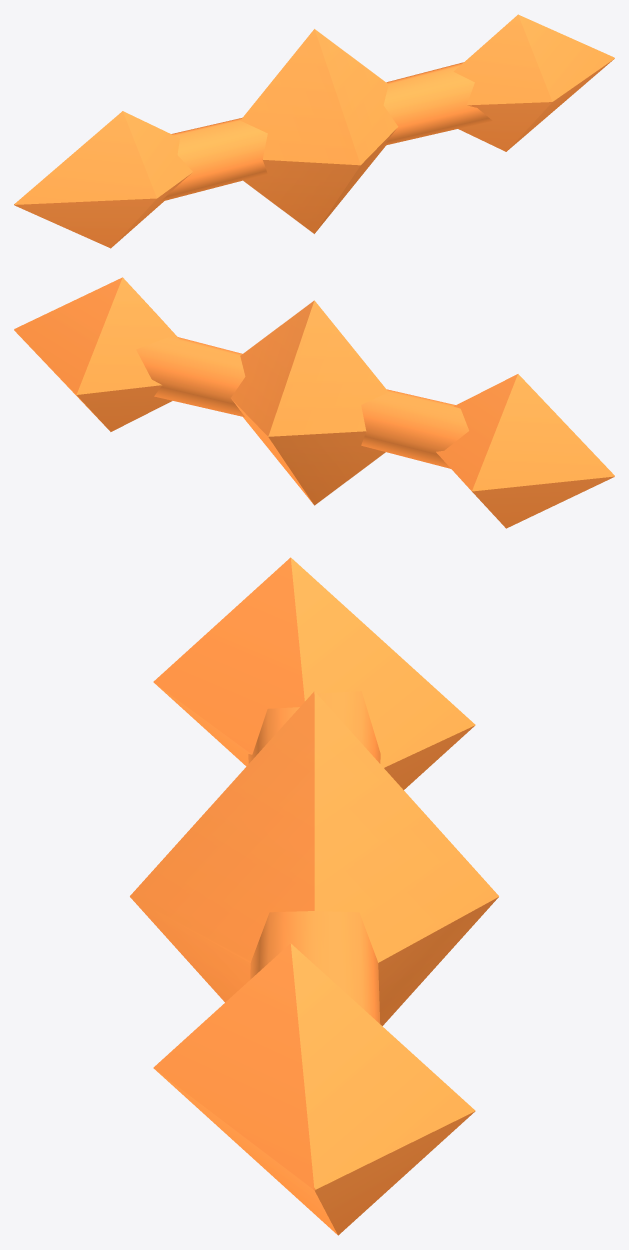
The model's file is bronze_guard_068.glb.
The picture shows the model from 3 angles, top to bottom: view 1: azimuth 30°, elevation 25°; view 2: azimuth 150°, elevation 25°; view 3: azimuth 270°, elevation 25°; orthographic projection. The views are drawn at different scales.
Parts seen in each view (by area): view 1: bronze_guard_068; view 2: bronze_guard_068; view 3: bronze_guard_068.
Boxes of the visible parts, x1,y1,x2,y2 form: bronze_guard_068: [14, 14, 614, 248]; bronze_guard_068: [14, 277, 614, 528]; bronze_guard_068: [130, 557, 498, 1235].
Size of the model in its own units: 8.65 by 2.83 by 2.31.
Materials: 1 (1 with a texture image).
